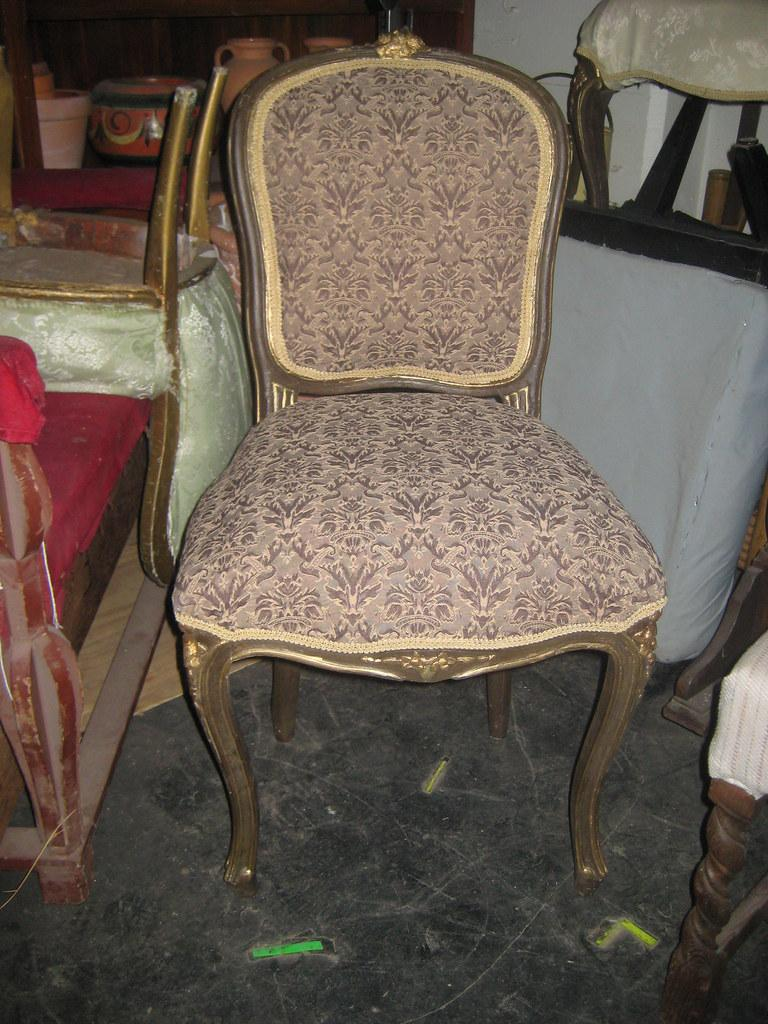chair: (170, 28, 669, 898), (567, 1, 768, 244)
